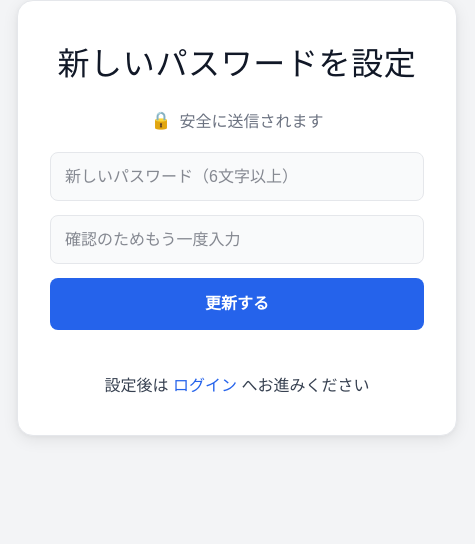
Test: ResetPasswordForm › セッションの期限切れだと、リンクの警告を出す（失敗の経路）
The width and height of the screenshot is (475, 544).
Expected: the button "更新する" is enabled, [50,278,424,330]
Step 1. Type "abcdef" into the password field labelled "新しいパスワード" → coordinates (237, 176), box [50,152,424,201]
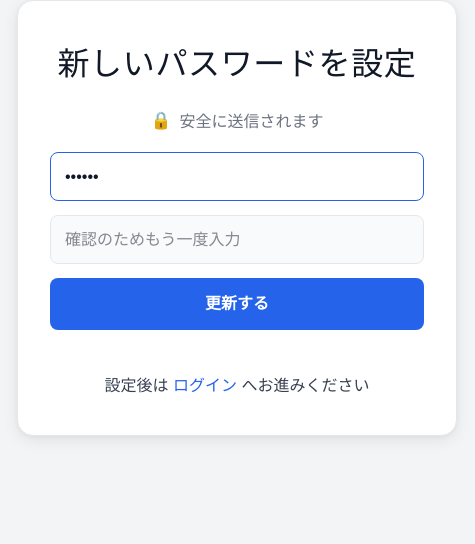
Step 2. Type "abcdef" into the password field named "新しいパスワード（確認）" → coordinates (237, 240), box [50,215,424,264]
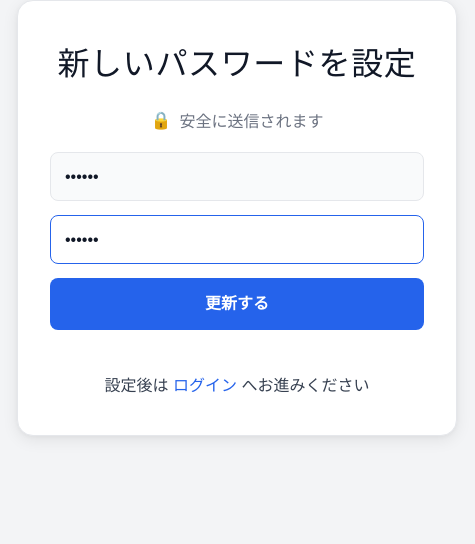
Step 3. Click the button "更新する" → coordinates (237, 304), box [50,278,424,330]
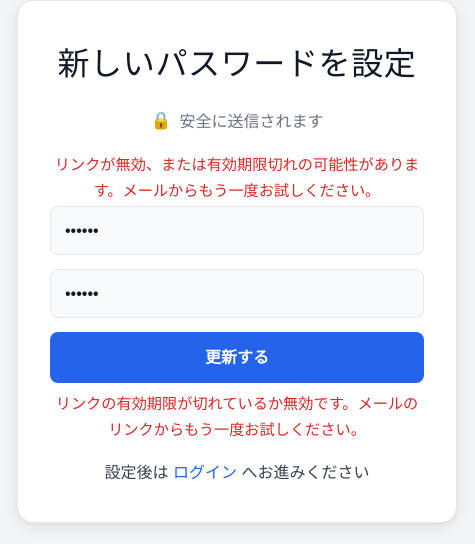
Expected: the text "リンクの有効期限が切れているか無効です。メールのリンクからもう一度お試しください。" is shown, [50,391,424,443]
Expected: the message "リンクが無効、または有効期限切れの可能性があります。メールからもう一度お試しください。" is shown, [50,152,424,204]
